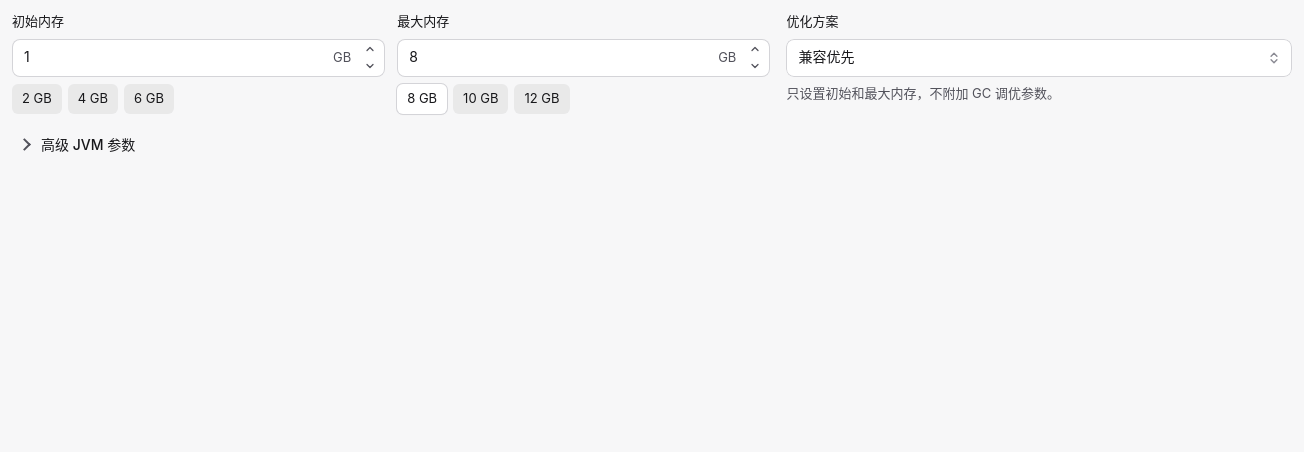
initial memory: the three presets 2 / 4 / 6 GB below count as setting it manually when clicked, and it no longer follows max memory afterwards
This screenshot has width=1304, height=452.
Click the button "4 GB": (93, 98) [68,84,118,114]
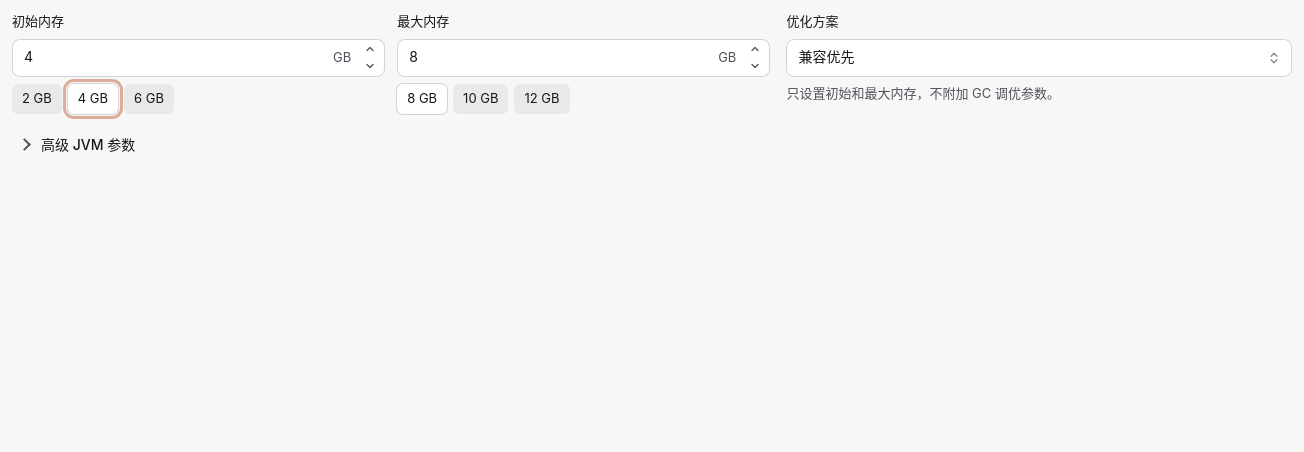
Expected: the field labelled "初始内存" holds "4", [12,38,385,76]
Click the button "12 GB": (542, 98) [514,84,570,114]
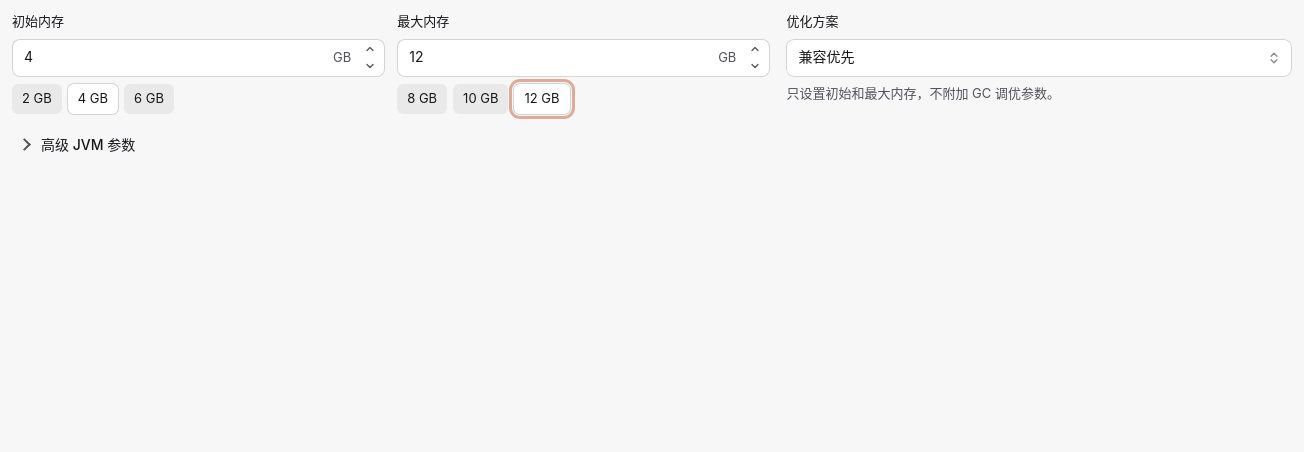
Note: A value larger than max memory is still filled in, and the diagnostic below explains why it cannot be saved.
Click the button "8 GB": (422, 98) [397,84,447,114]
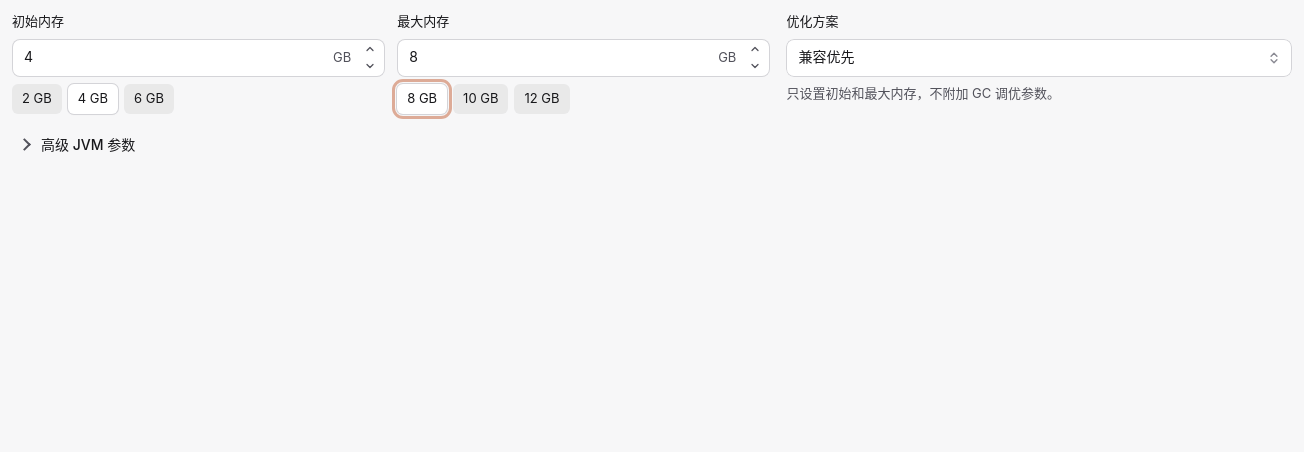
Replace the text in the field labelled "最大内存" with "3": (584, 58) [397,38,770,76]
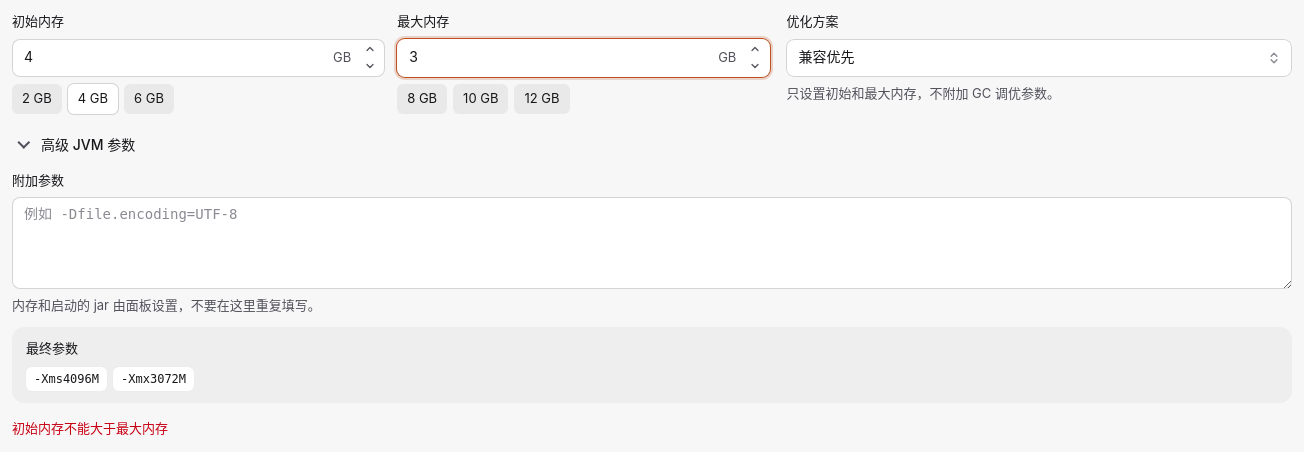
Expected: the text "初始内存不能大于最大内存" is shown, [12,420,168,436]
